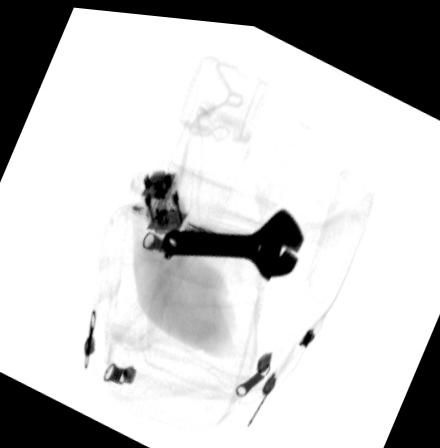Wrench: (158, 200, 305, 277)
